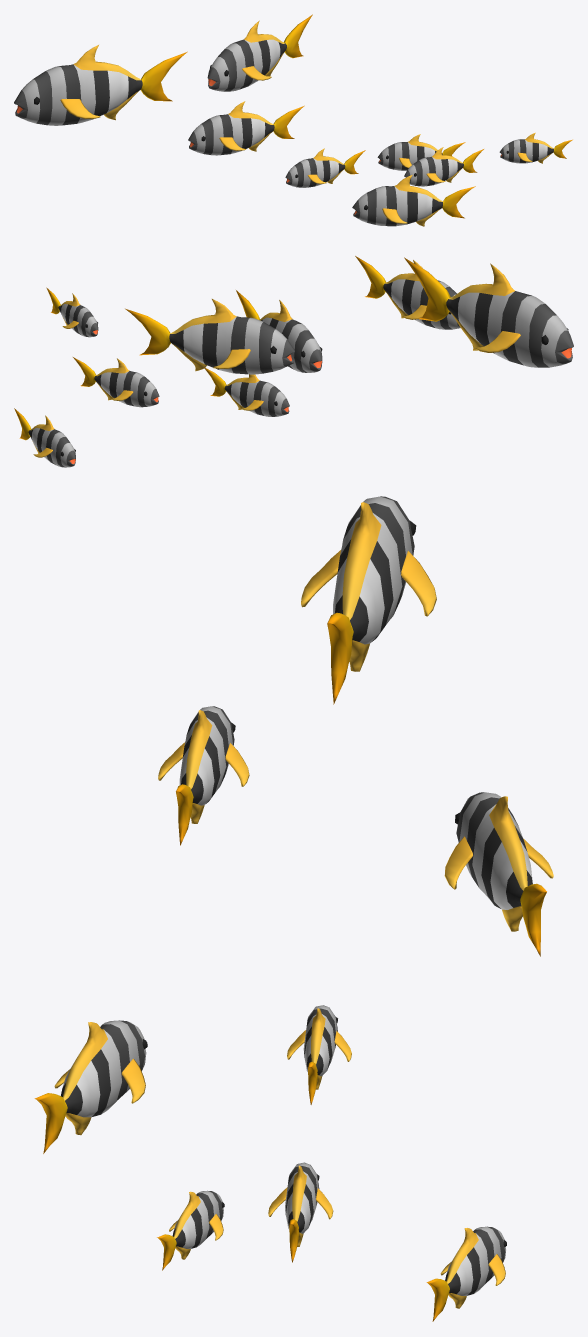
Rendered from Striped_Fish_Group_01.fbx.
The picture shows the model from 3 angles, top to bottom: view 1: azimuth 30°, elevation 25°; view 2: azimuth 150°, elevation 25°; view 3: azimuth 270°, elevation 25°; orthographic projection. The views are drawn at different scales.
Parts seen in each view (by area): view 1: Striped_Fish_Group_01; view 2: Striped_Fish_Group_01; view 3: Striped_Fish_Group_01.
Part boxes in pixels (x1,y1,x2,y2): Striped_Fish_Group_01: (14,14,572,226); Striped_Fish_Group_01: (14,256,573,467); Striped_Fish_Group_01: (34,496,553,1321).
Size of the model in its own units: 306 by 134 by 138.
